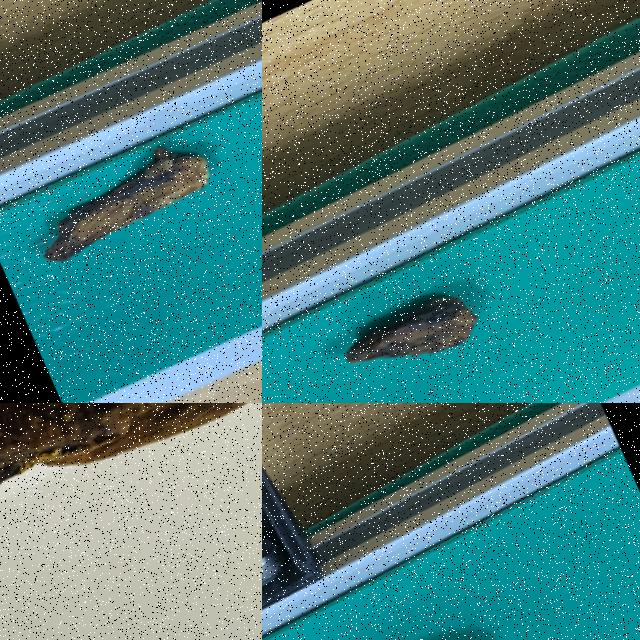Agglomerated_cocoabeans: (0, 403, 261, 616)
Fine_cocoabeans: (262, 555, 580, 639)
Flat_cocoabeans: (262, 204, 585, 402), (0, 81, 261, 324)
